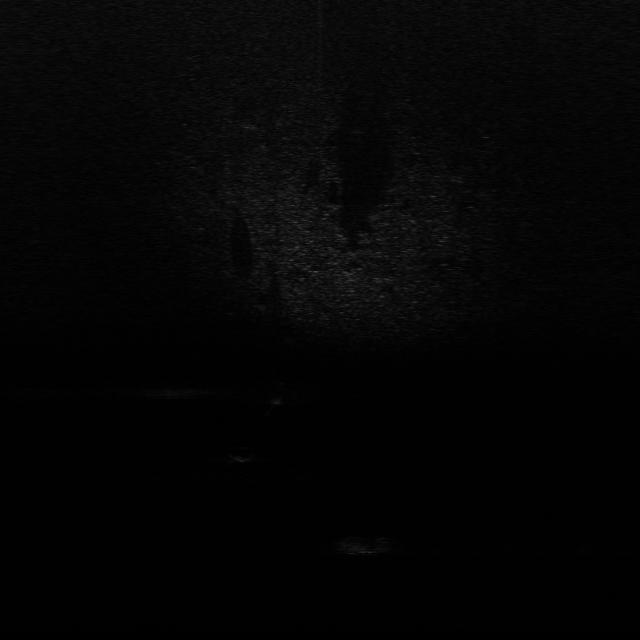ball: (228, 442, 257, 465)
circle cage: (332, 530, 397, 559)
human body: (264, 378, 290, 416)
